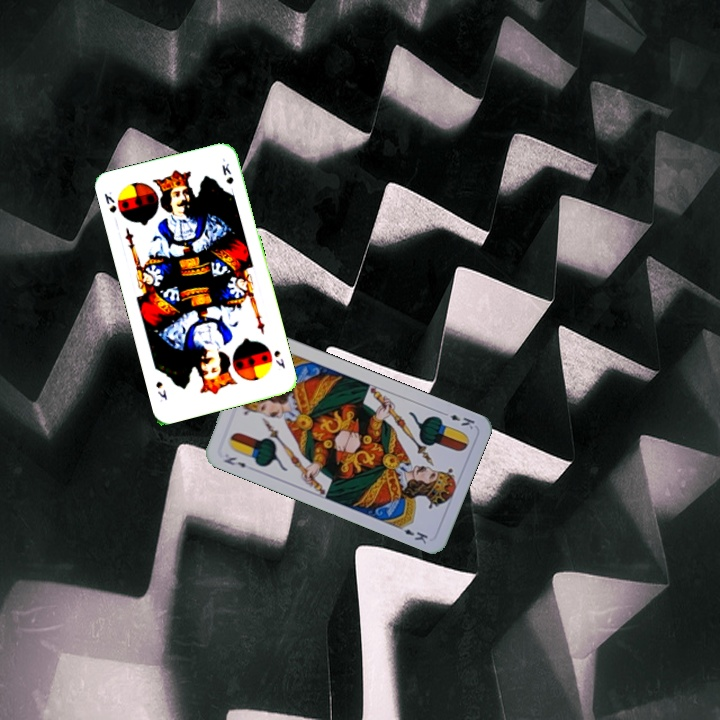EK: (438, 408, 477, 432), (220, 453, 248, 470)
SK: (100, 188, 119, 215), (270, 346, 288, 371)
